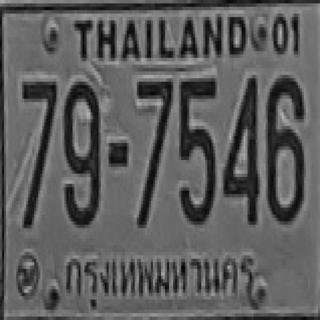N04: (221, 73, 258, 220)
N05: (177, 75, 215, 221)
N06: (266, 75, 302, 221)
N07: (20, 78, 56, 225), (136, 78, 172, 225)
N09: (62, 78, 99, 225)
P04: (59, 250, 258, 311)
